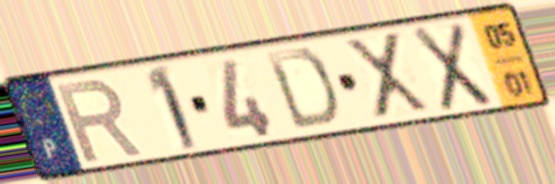1: (143, 64, 202, 153)
4: (217, 54, 277, 141)
D: (261, 45, 343, 133)
R: (51, 76, 147, 166)
X: (340, 29, 435, 123), (407, 19, 497, 116)
